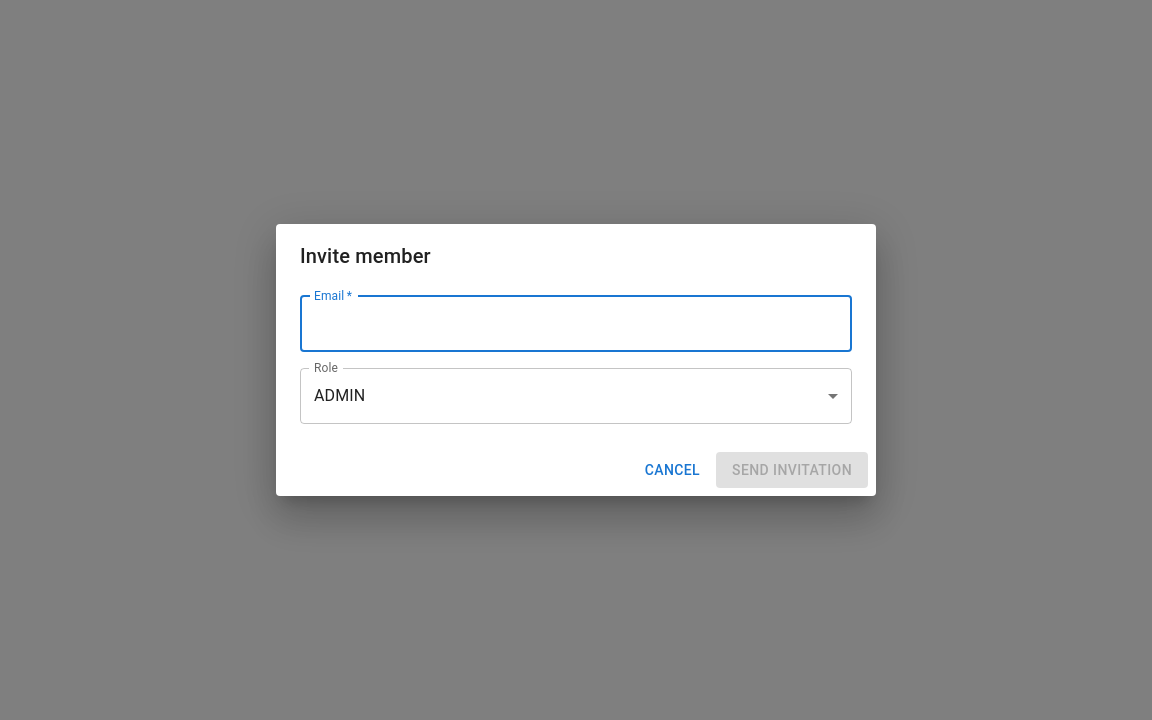
Test: InviteMemberDialog › rejects invalid emails before hitting the API
This screenshot has width=1152, height=720.
Type "not-an-email" into the field labelled "Email *" at point(576, 324), box [300,296,852,352]
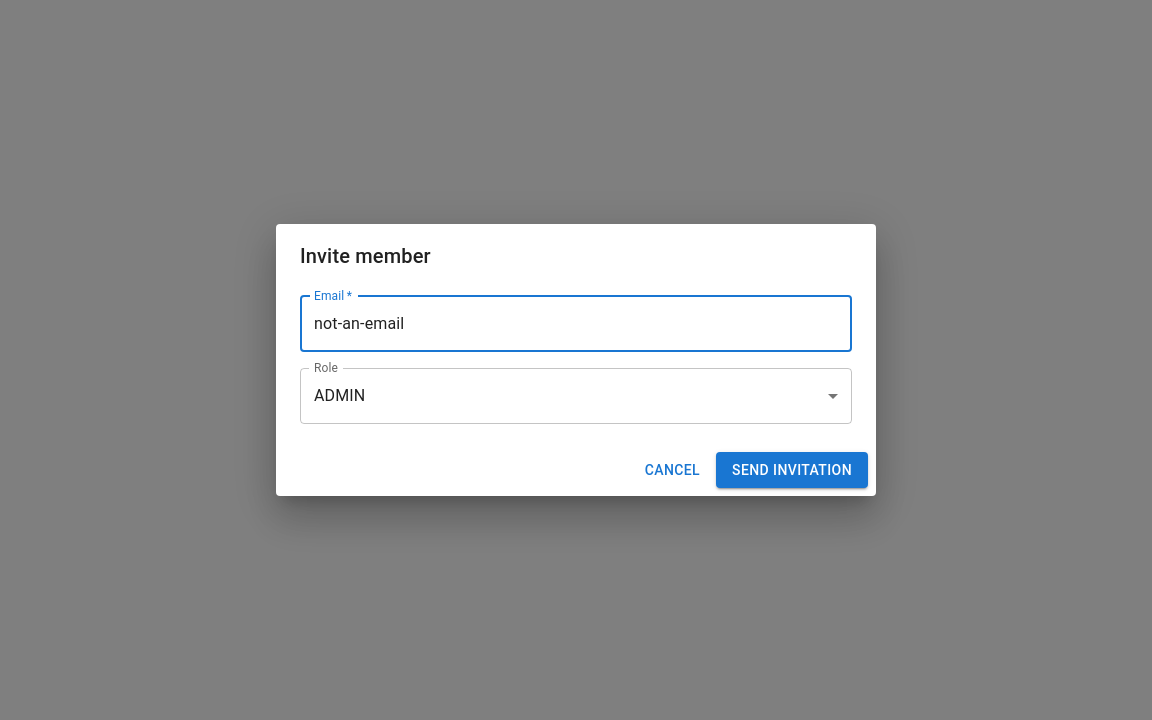
Click the button "Send invitation" at point(792, 470), box [716,452,868,488]
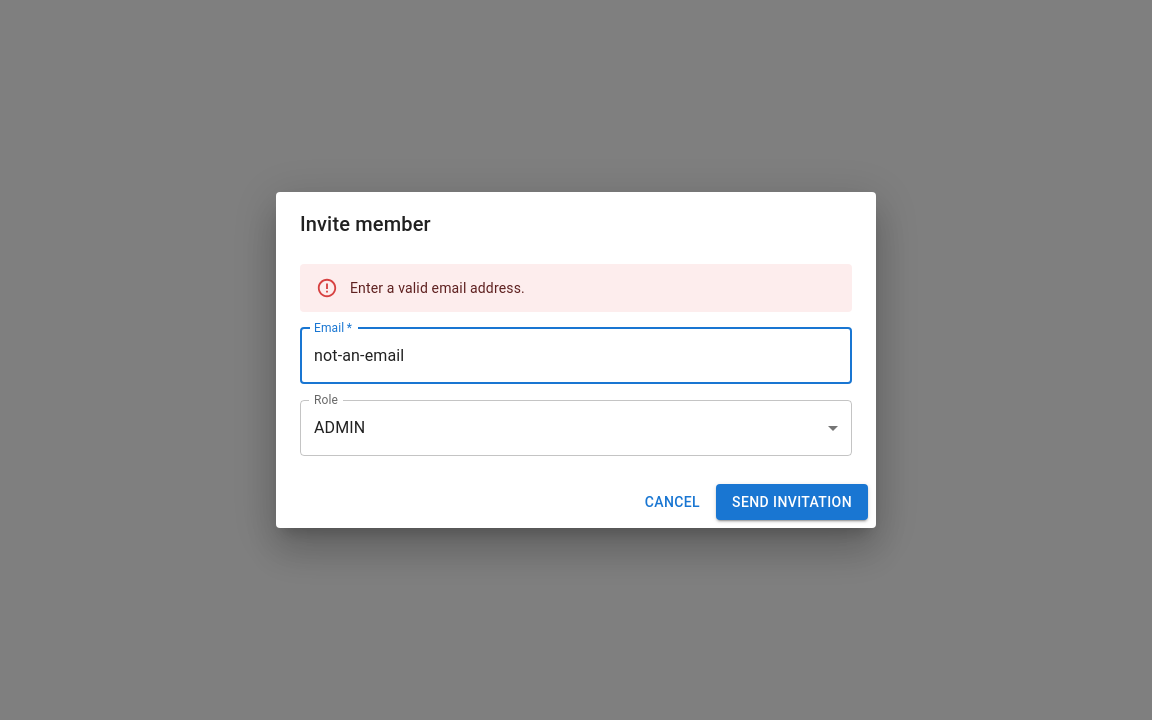
Now the text "Enter a valid email address." is shown, box [350,280,525,296]
